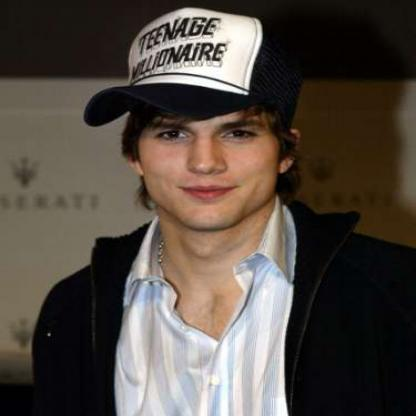face: (137, 50, 284, 234)
